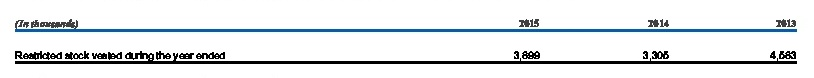table: (0, 0, 814, 78)
